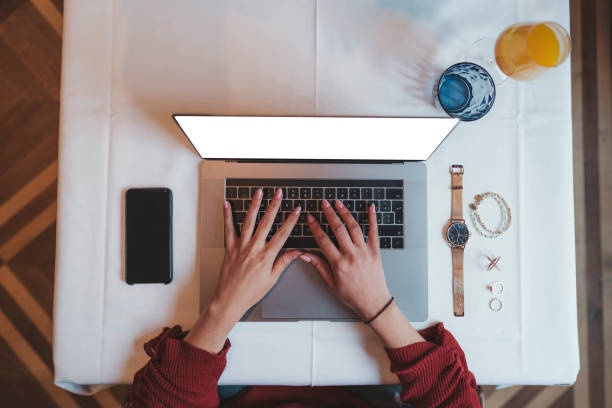keyboard: (224, 178, 406, 250)
laptop: (167, 114, 459, 322)
phone: (121, 186, 175, 286)
